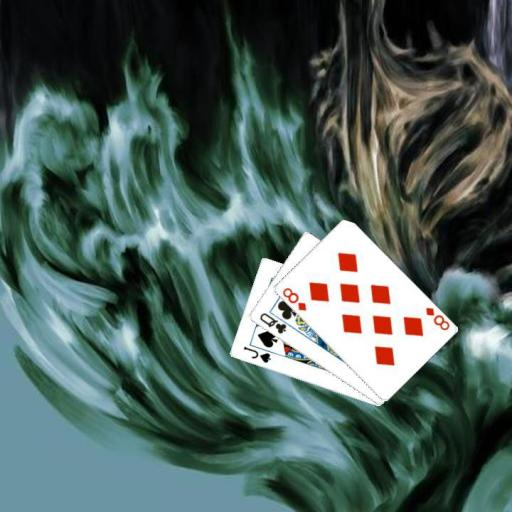8D: (422, 304, 451, 332), (279, 285, 308, 312)
JS: (241, 343, 273, 365)
QC: (256, 309, 288, 336)
